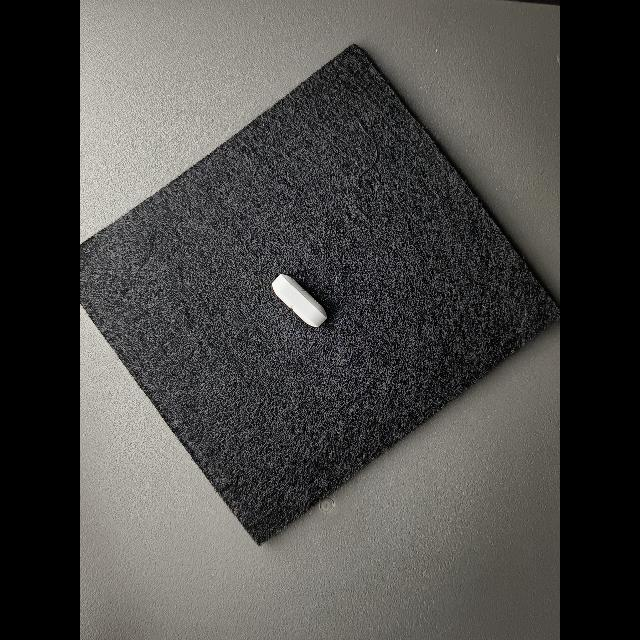Intact Pill: (271, 274, 327, 328)
